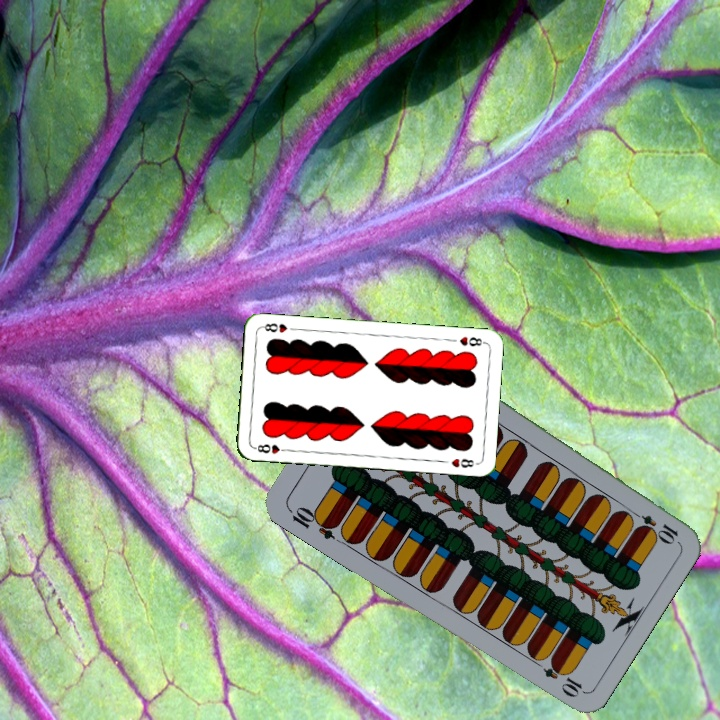E10: (284, 502, 341, 542), (625, 506, 681, 545)
H8: (250, 440, 291, 456), (455, 333, 487, 349)
